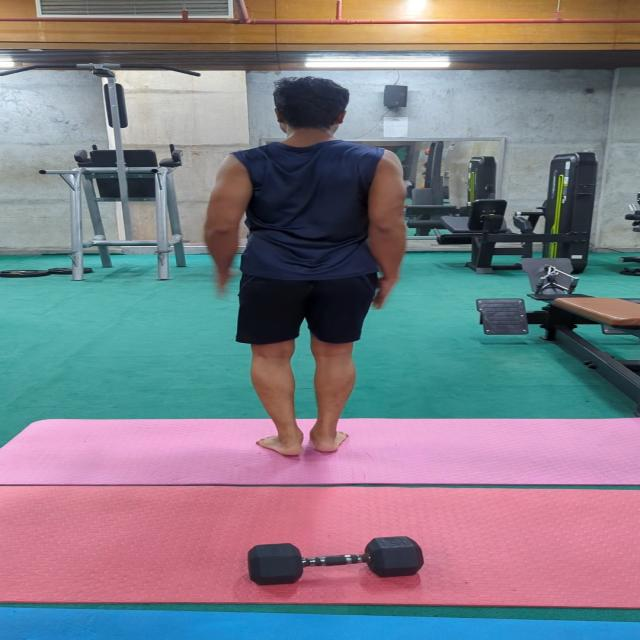Normal_JumpingJacks: (184, 66, 456, 473)
